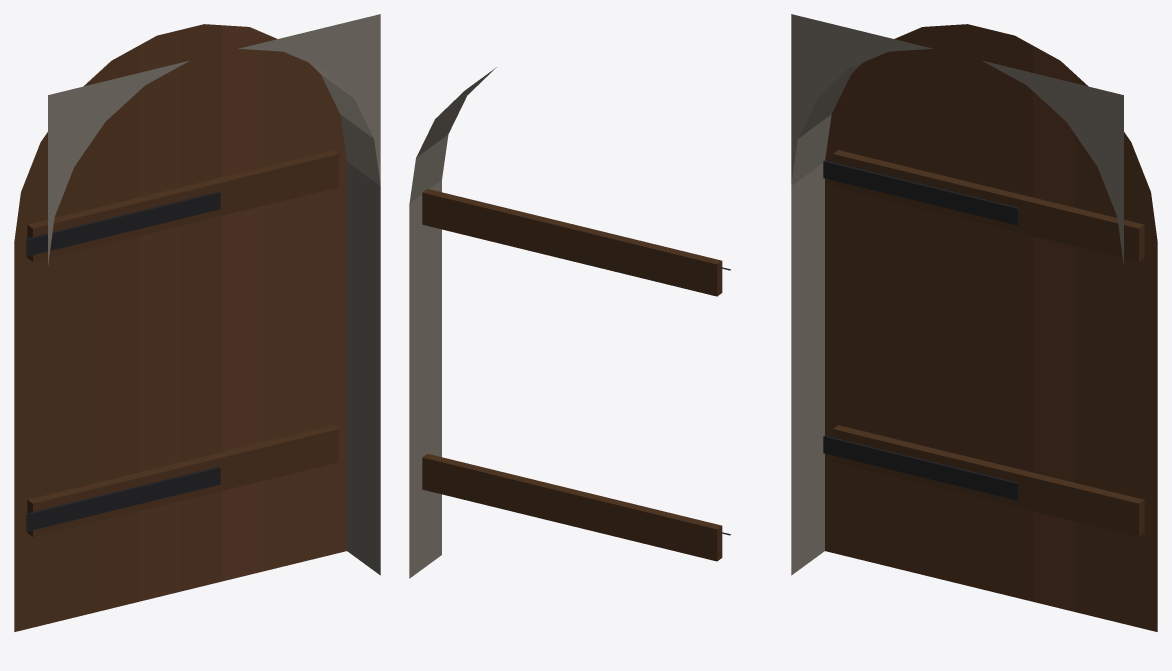
File: arched_01.glb
3 views of the same model, side by side, from view 1: azimuth 30°, elevation 25°; view 2: azimuth 150°, elevation 25°; view 3: azimuth 330°, elevation 25° (orthographic). The views are drawn at different scales.
Visible parts, largest first — view 1: door_arched_01; view 2: door_arched_01; view 3: door_arched_01.
Boxes of the visible parts, box(x1,y1,x2,y2) form: door_arched_01: box(14, 14, 380, 631); door_arched_01: box(409, 67, 730, 578); door_arched_01: box(791, 14, 1157, 631).
Bounding box in the file's own units: 1.25 × 2.02 × 0.22.
